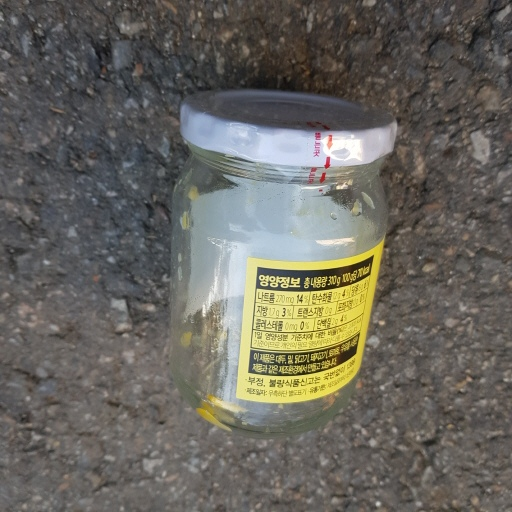Glass_5: (156, 78, 395, 434)
